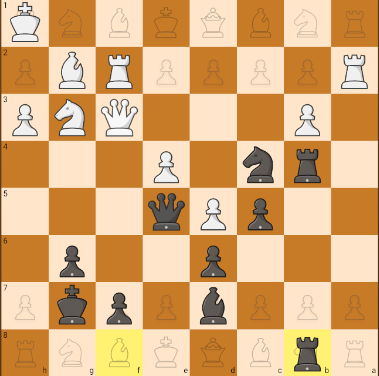bb: (191, 285, 236, 327)
bk: (51, 282, 92, 325)
bn: (238, 142, 277, 185)
bp: (193, 240, 231, 280), (102, 288, 138, 326), (53, 243, 90, 279), (247, 194, 276, 232)
bq: (144, 192, 185, 233)
br: (288, 145, 325, 185), (292, 332, 325, 372)
wb: (56, 49, 90, 91)
wk: (5, 2, 46, 45)
wn: (54, 98, 89, 137)
wp: (4, 98, 44, 140), (150, 145, 186, 185), (293, 97, 325, 138), (201, 195, 231, 233)
wq: (101, 99, 139, 139)
wr: (101, 51, 137, 90), (339, 50, 372, 90)
